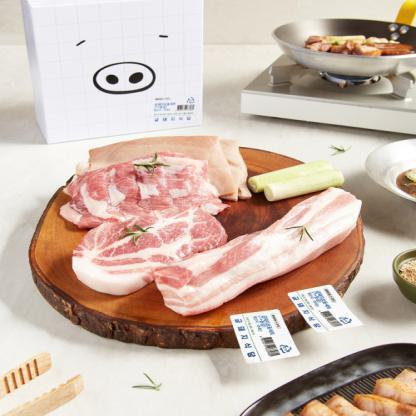pork: (78, 146, 354, 283)
